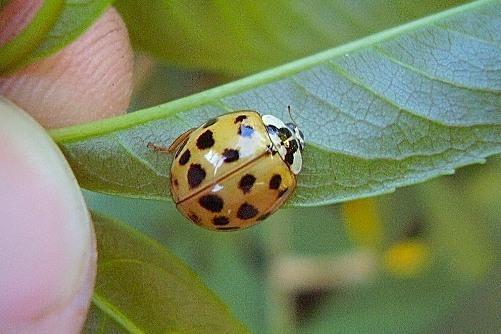ladybug: (147, 105, 309, 236)
